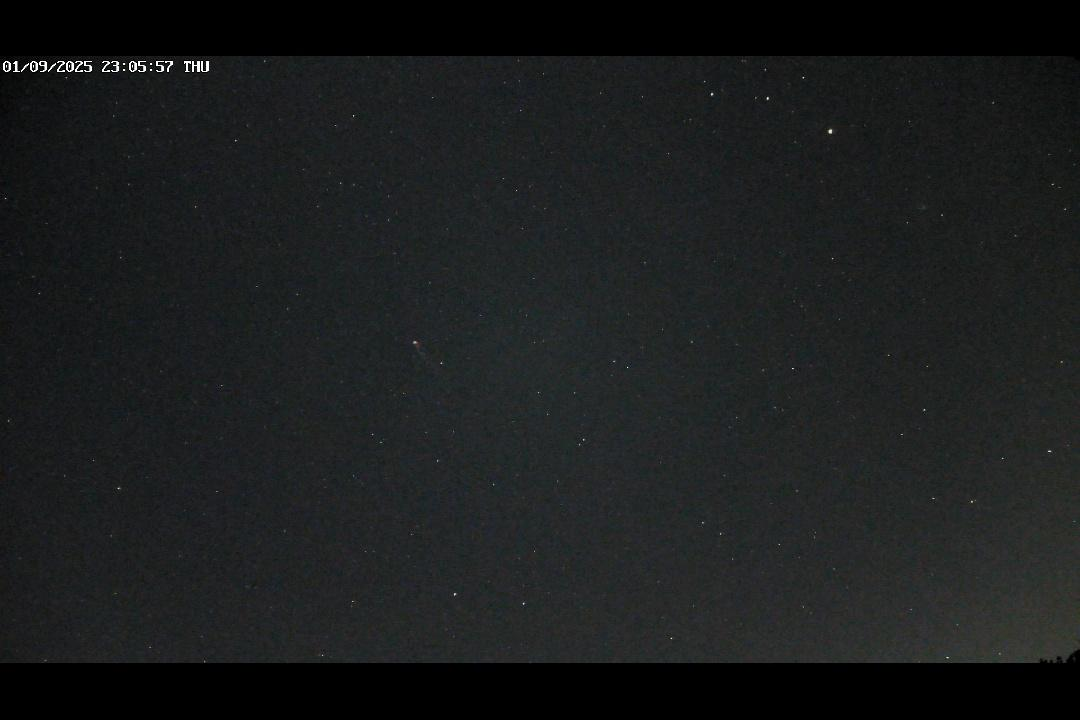Plane: (411, 334, 437, 369)
